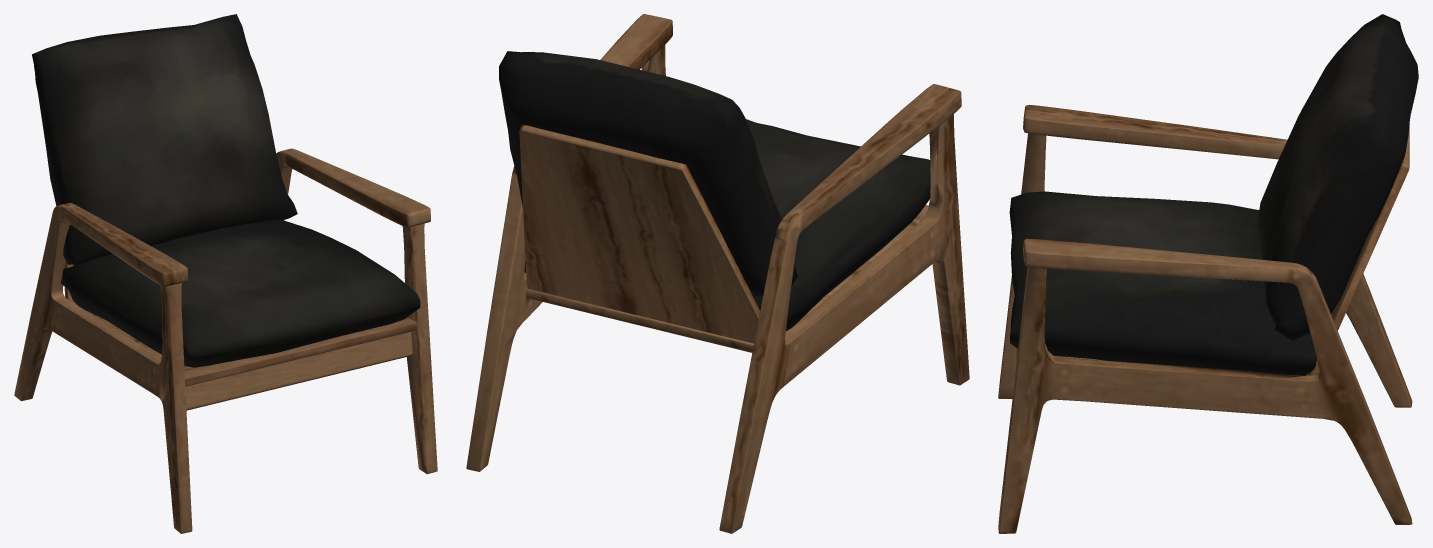
File: modern_arm_chair_01.lite.glb
The picture shows the model from 3 angles, left to right: view 1: azimuth 30°, elevation 25°; view 2: azimuth 150°, elevation 25°; view 3: azimuth 270°, elevation 25°; orthographic projection. The views are drawn at different scales.
Parts seen in each view (by area): view 1: modern_arm_chair_01; view 2: modern_arm_chair_01; view 3: modern_arm_chair_01.
Boxes of the visible parts, bbox=[...] form: modern_arm_chair_01: bbox=[14, 14, 437, 533]; modern_arm_chair_01: bbox=[466, 14, 969, 533]; modern_arm_chair_01: bbox=[998, 14, 1418, 533].
Bounding box in the file's own units: 0.8203 × 1.02 × 0.9865.
Materials: 2 (2 with a texture image).
